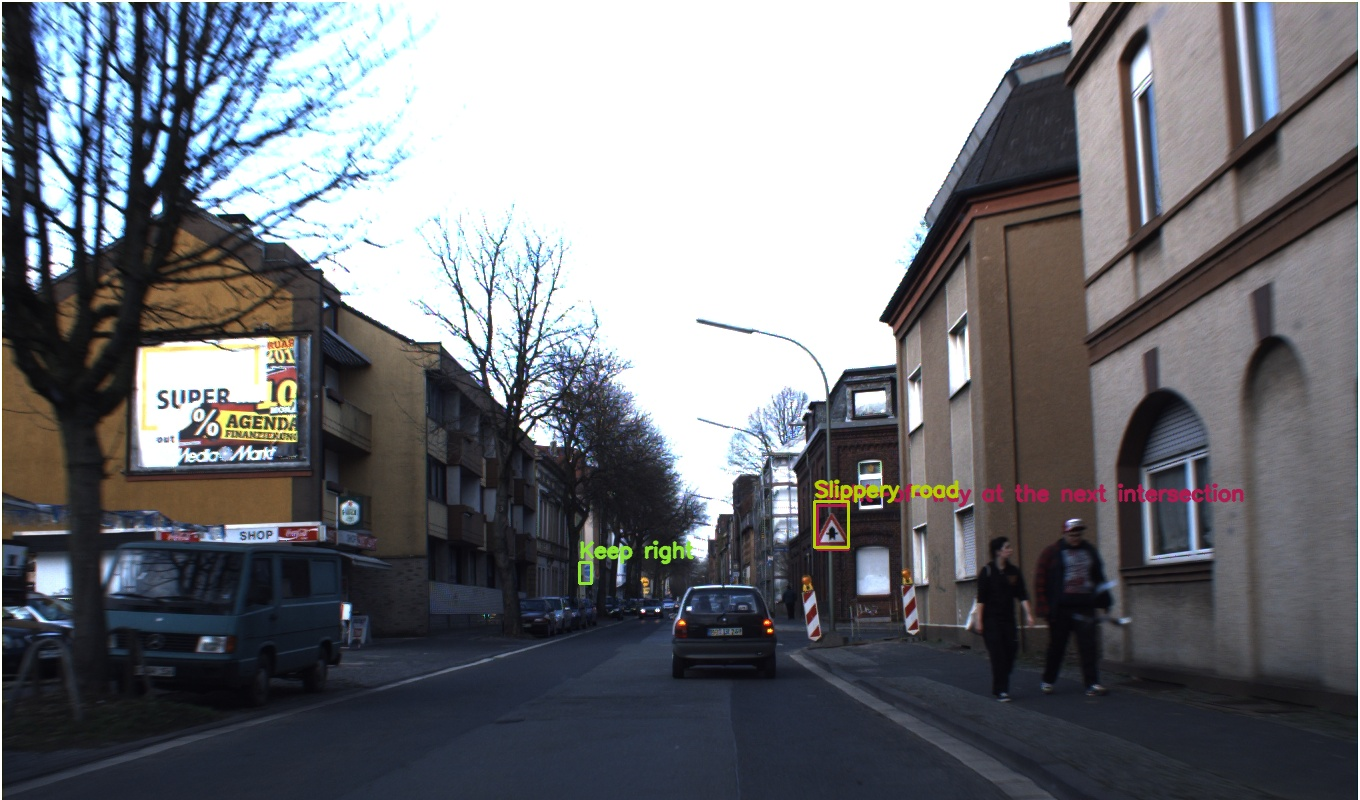Traffic signals: (874, 375, 918, 416)
